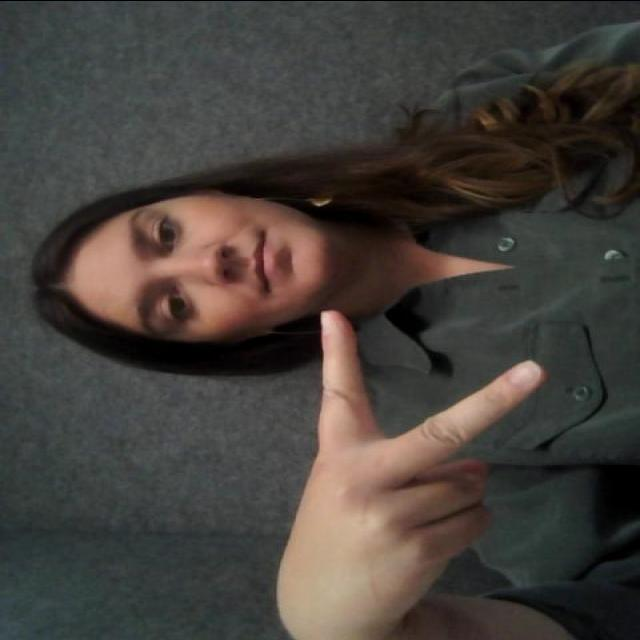Scissors: (270, 259, 548, 640)
